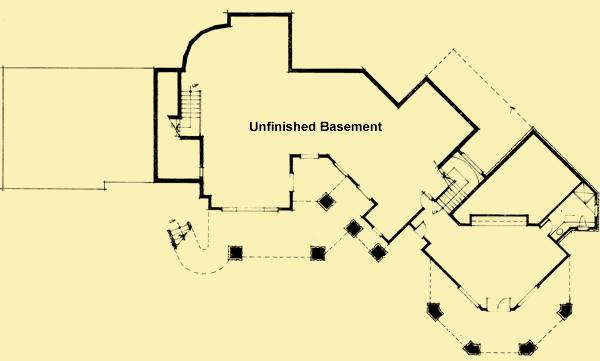door: (494, 295, 515, 313), (540, 216, 555, 237)
stairs: (174, 83, 205, 144), (431, 179, 466, 216), (165, 216, 195, 248)
window: (221, 207, 280, 213), (295, 150, 321, 161)
